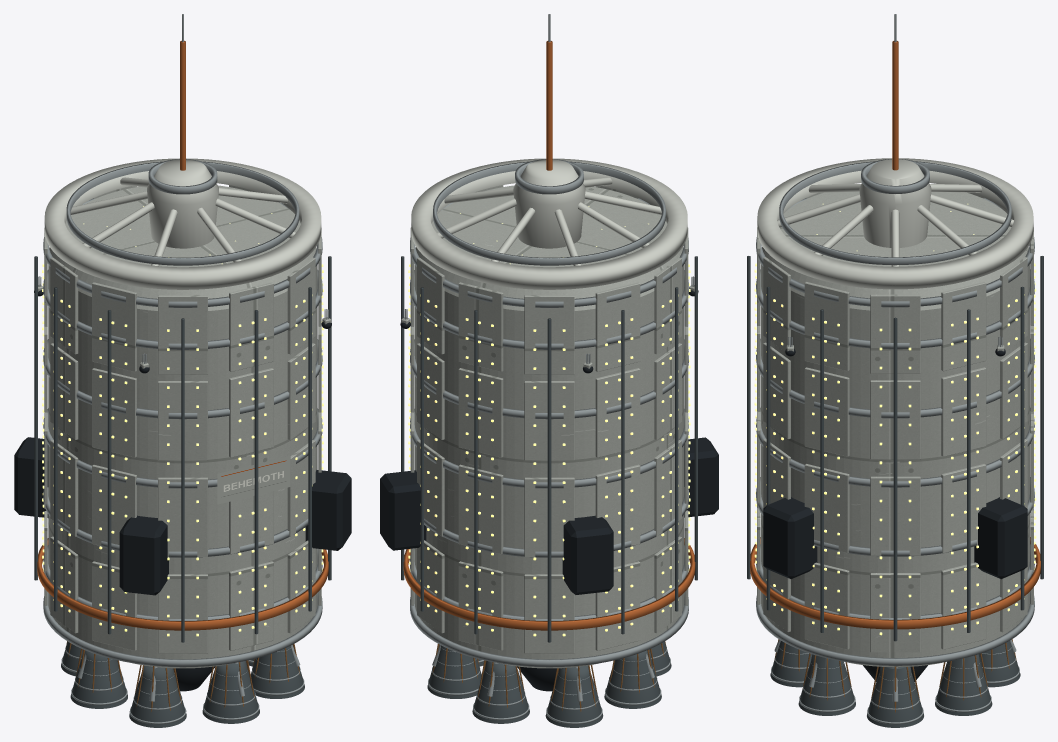
File: Behemoth.glb
3 views of the same model, side by side, from view 1: azimuth 30°, elevation 25°; view 2: azimuth 150°, elevation 25°; view 3: azimuth 270°, elevation 25° (orthographic).
Visible parts, largest first — view 1: paint, white, frame, silver, dark, accent, lamp, copper; view 2: paint, white, frame, silver, dark, accent, lamp, copper; view 3: paint, white, frame, silver, dark, accent, lamp, copper.
Part boxes in pixels (x1,y1,x2,y2): paint: [38, 185, 331, 668]; white: [44, 158, 321, 289]; frame: [34, 256, 331, 727]; silver: [38, 14, 328, 724]; dark: [14, 290, 351, 691]; accent: [37, 40, 328, 630]; lamp: [42, 206, 323, 636]; copper: [66, 641, 300, 711]; paint: [401, 185, 694, 668]; white: [411, 158, 687, 289]; frame: [401, 256, 697, 727]; silver: [403, 14, 694, 724]; dark: [380, 290, 718, 691]; accent: [403, 41, 695, 630]; lamp: [408, 206, 690, 636]; copper: [432, 641, 666, 711]; paint: [757, 191, 1033, 667]; white: [757, 158, 1033, 289]; frame: [747, 256, 1043, 727]; silver: [756, 14, 1034, 724]; dark: [763, 349, 1027, 681]; accent: [750, 41, 1040, 629]; lamp: [754, 203, 1036, 635]; copper: [774, 639, 1016, 712].
Size of the model in its own units: 1.48 by 3.67 by 1.48.
9 materials, 1 textured.
